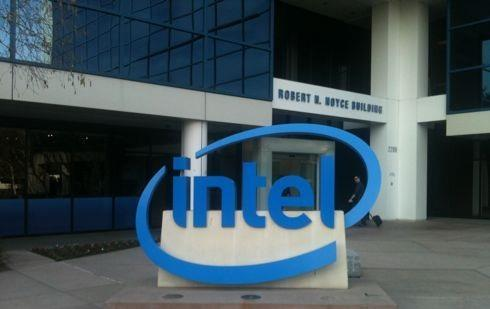intel: (139, 118, 380, 280)
